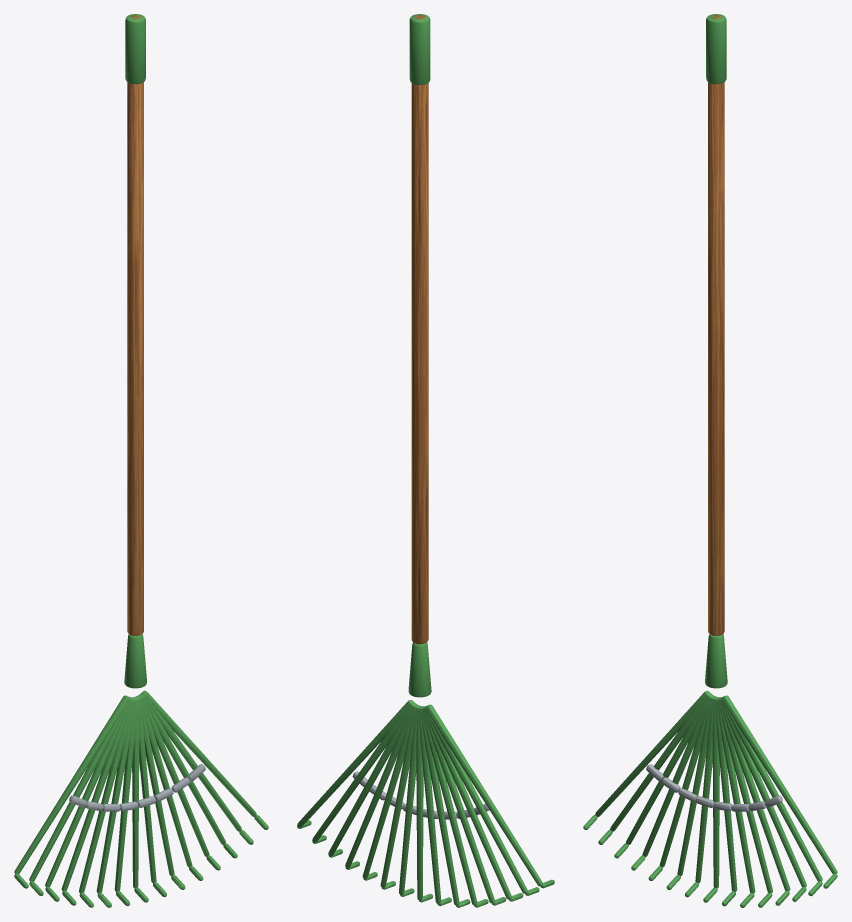
The model's file is rastrillo.gltf.
The picture shows the model from 3 angles, left to right: view 1: azimuth 30°, elevation 25°; view 2: azimuth 150°, elevation 25°; view 3: azimuth 330°, elevation 25°; orthographic projection.
Parts seen in each view (by area): view 1: rastrillo; view 2: rastrillo; view 3: rastrillo.
Part boxes in pixels (left/top/right/bottom): rastrillo: left=14, top=14, right=268, bottom=907; rastrillo: left=297, top=14, right=554, bottom=907; rastrillo: left=583, top=14, right=837, bottom=907.
Bounding box in the file's own units: 0.6028 × 2.06 × 0.0746.
Materials: 3 (3 with a texture image).
